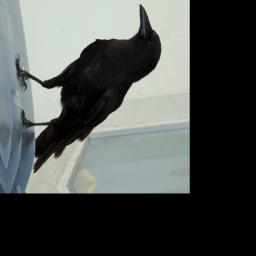Crow: (10, 0, 170, 174)
